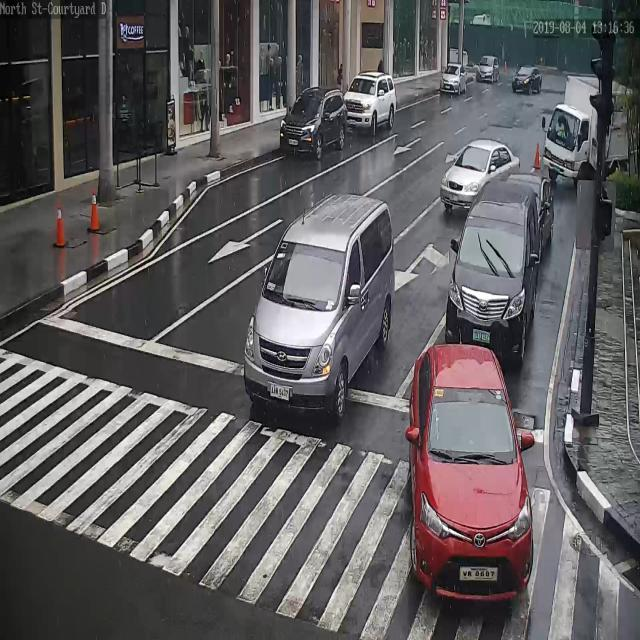car: (412, 326, 529, 622), (441, 140, 521, 212), (279, 86, 348, 157), (343, 73, 397, 133), (537, 175, 554, 260), (512, 65, 543, 96), (441, 64, 467, 95), (477, 55, 500, 84)
motorcycle: (543, 77, 640, 181)
van: (247, 190, 395, 424), (447, 176, 538, 359)
